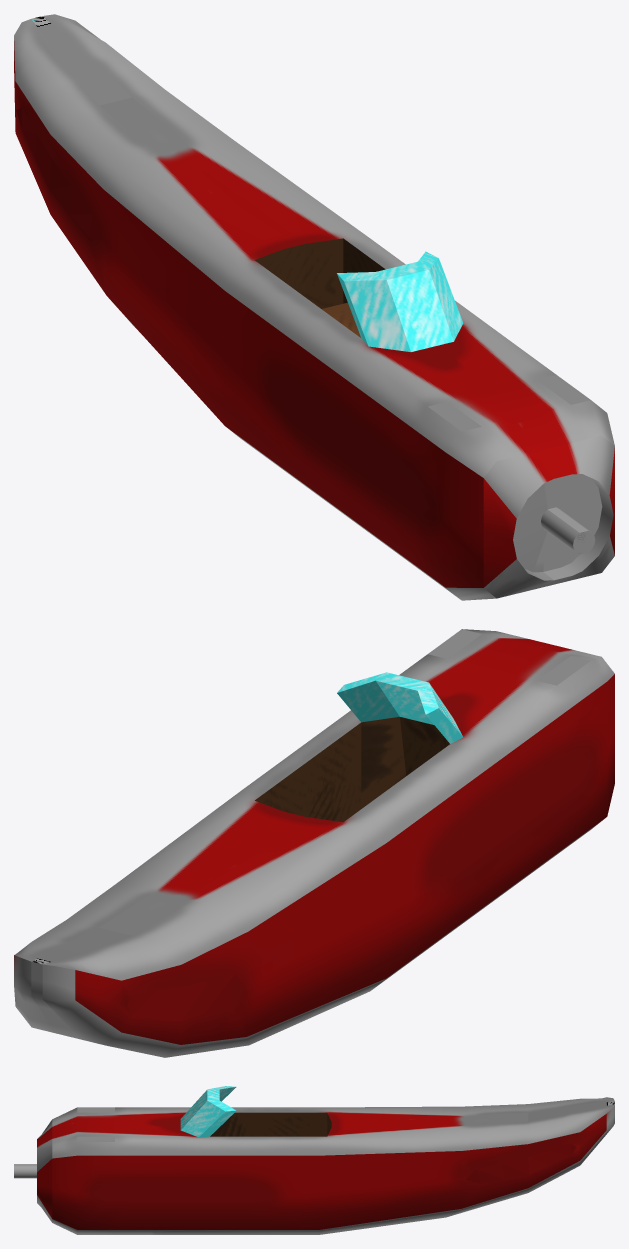
The model's file is PlaneBody.FBX.
3 views of the same model, one above another, from view 1: azimuth 30°, elevation 25°; view 2: azimuth 150°, elevation 25°; view 3: azimuth 270°, elevation 25° (orthographic). The views are drawn at different scales.
Parts seen in each view (by area): view 1: Body; view 2: Body; view 3: Body.
Boxes of the visible parts, left/top/right/bottom form: Body: left=14, top=14, right=614, bottom=600; Body: left=14, top=629, right=614, bottom=1057; Body: left=14, top=1086, right=614, bottom=1234.
Size of the model in its own units: 10 by 13.2 by 58.66.
1 material, 1 textured.
